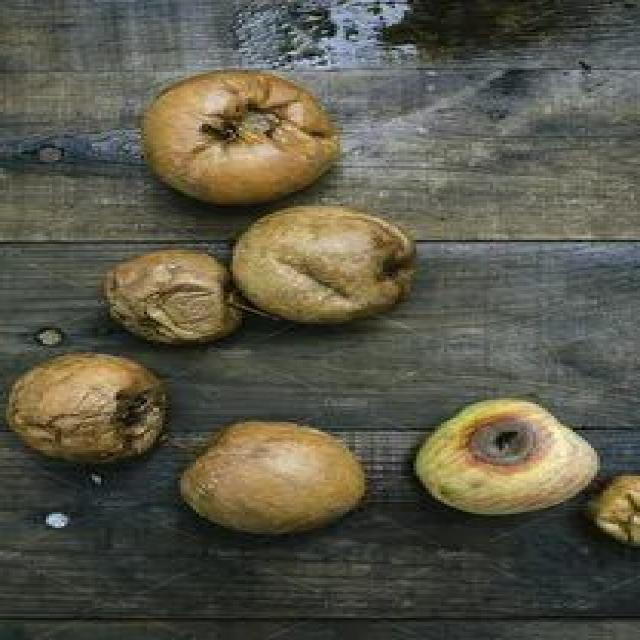Rotten: (152, 73, 340, 210), (176, 425, 366, 550), (0, 345, 178, 461), (423, 404, 602, 518)
